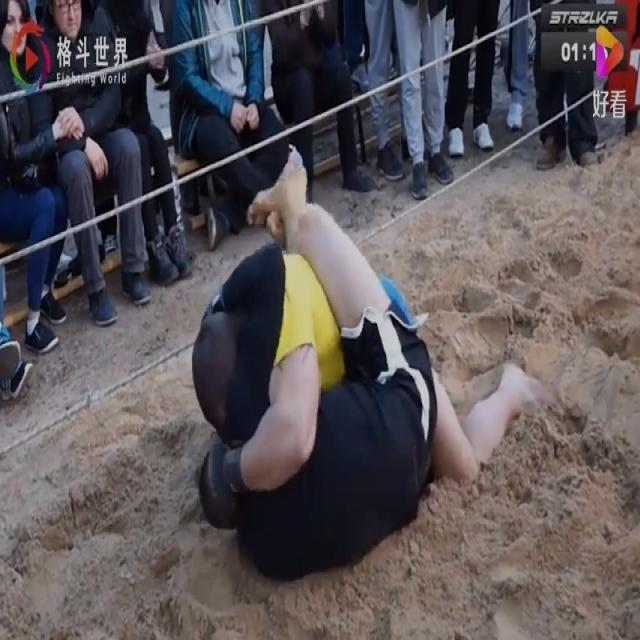fight: (187, 150, 537, 606)
